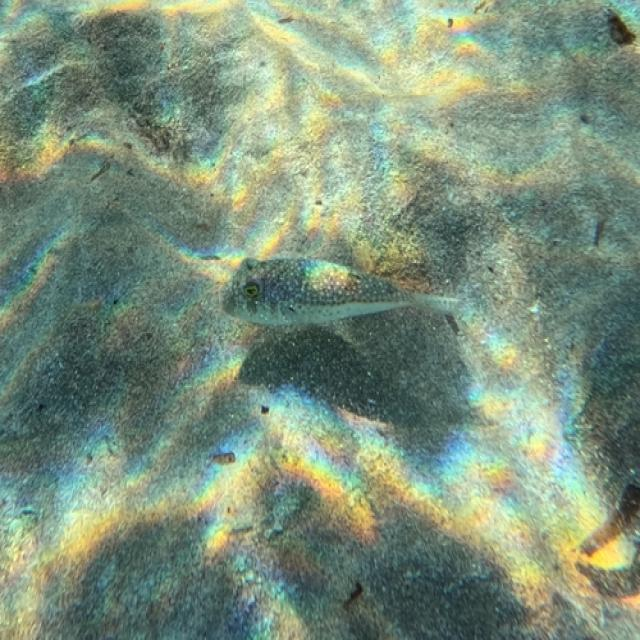Balik: (223, 259, 458, 325)
